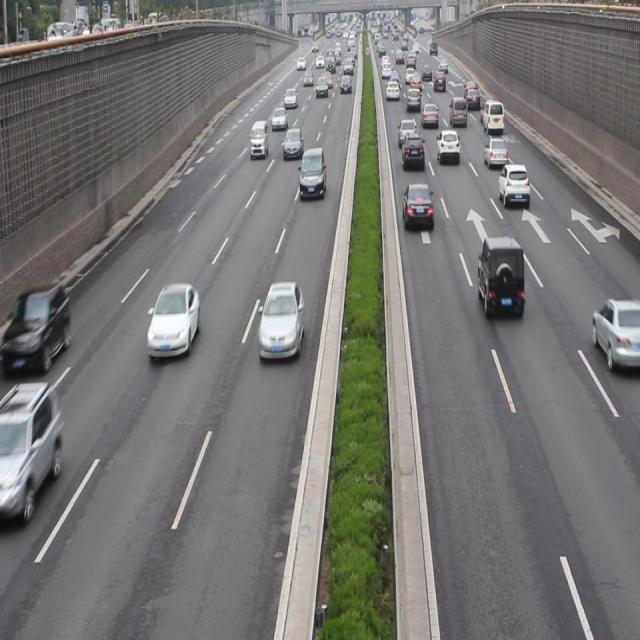car: (1, 379, 62, 522), (1, 280, 71, 377), (147, 282, 200, 358), (476, 236, 525, 318), (590, 296, 640, 369), (259, 280, 305, 359), (497, 160, 529, 207), (402, 182, 433, 230), (400, 132, 424, 170), (482, 135, 507, 170), (434, 129, 458, 164), (282, 126, 303, 162), (397, 117, 418, 148), (449, 95, 466, 129), (420, 103, 438, 126), (270, 105, 286, 130)
truck: (298, 146, 326, 200), (249, 119, 268, 158), (483, 98, 503, 132)
